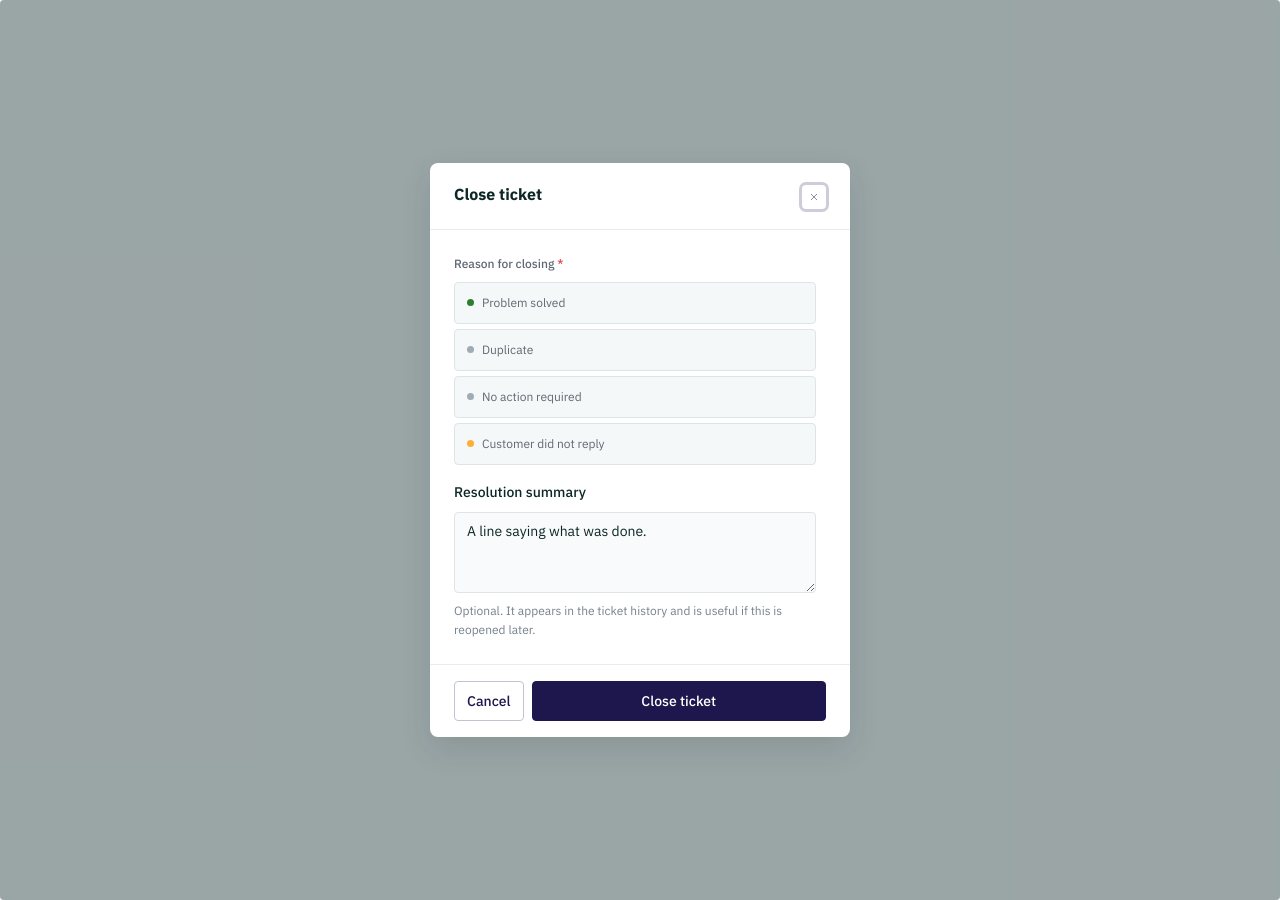
Scenario: AC-18 / AC-19 — four reasons, and one conditional field › puts «التذكرة الأصلية» in the DOM only while «مكرّرة» is chosen
Expected: the button "Close ticket" is enabled, [532,681,826,721]
Expected: the field labelled "Original ticket" is not shown
Click the button "Duplicate".
click(508, 349)  # box [454,328,816,370]
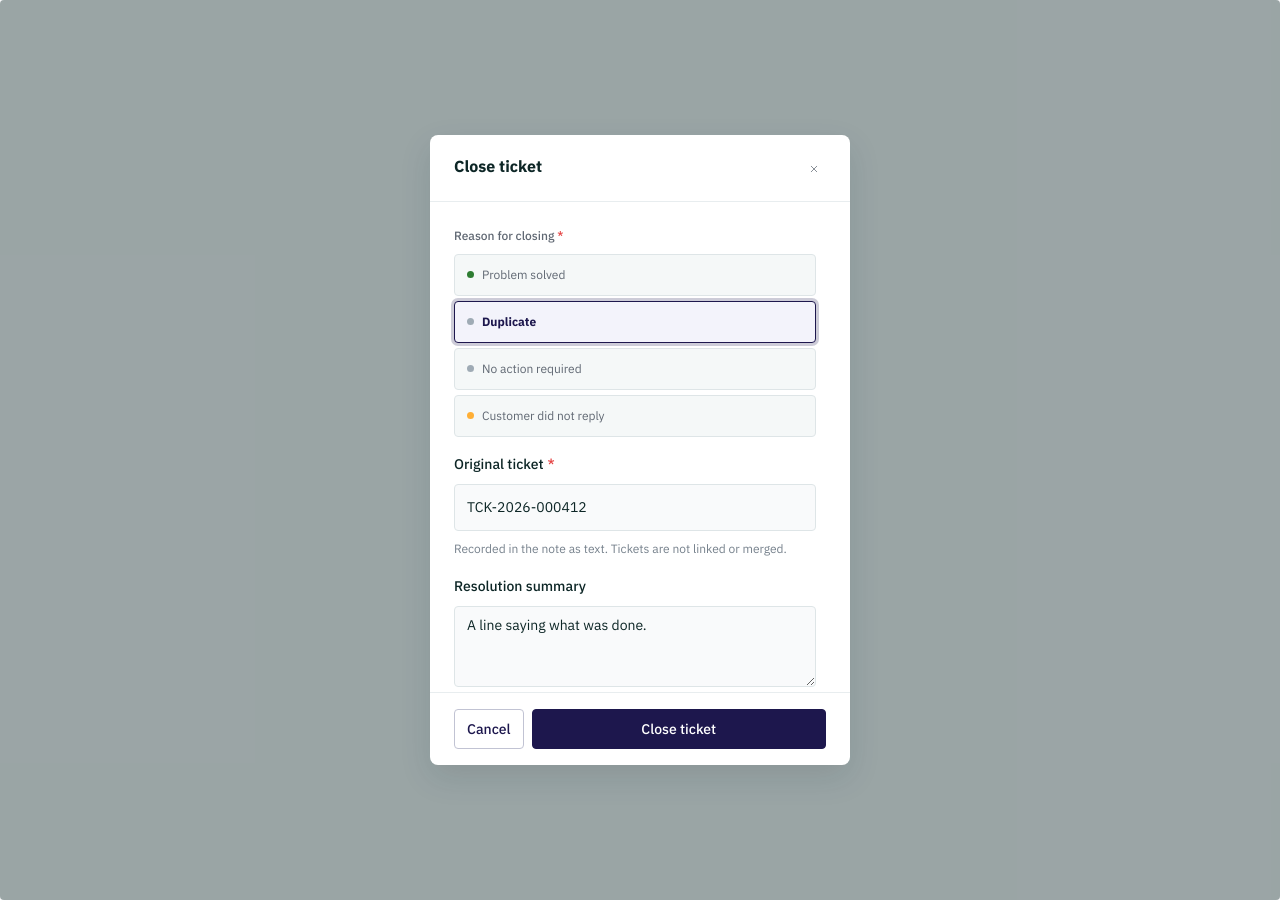
Expected: the field labelled "Original ticket" is shown, [454,484,816,531]
Click the button "No action required".
click(532, 368)  # box [454,348,816,390]
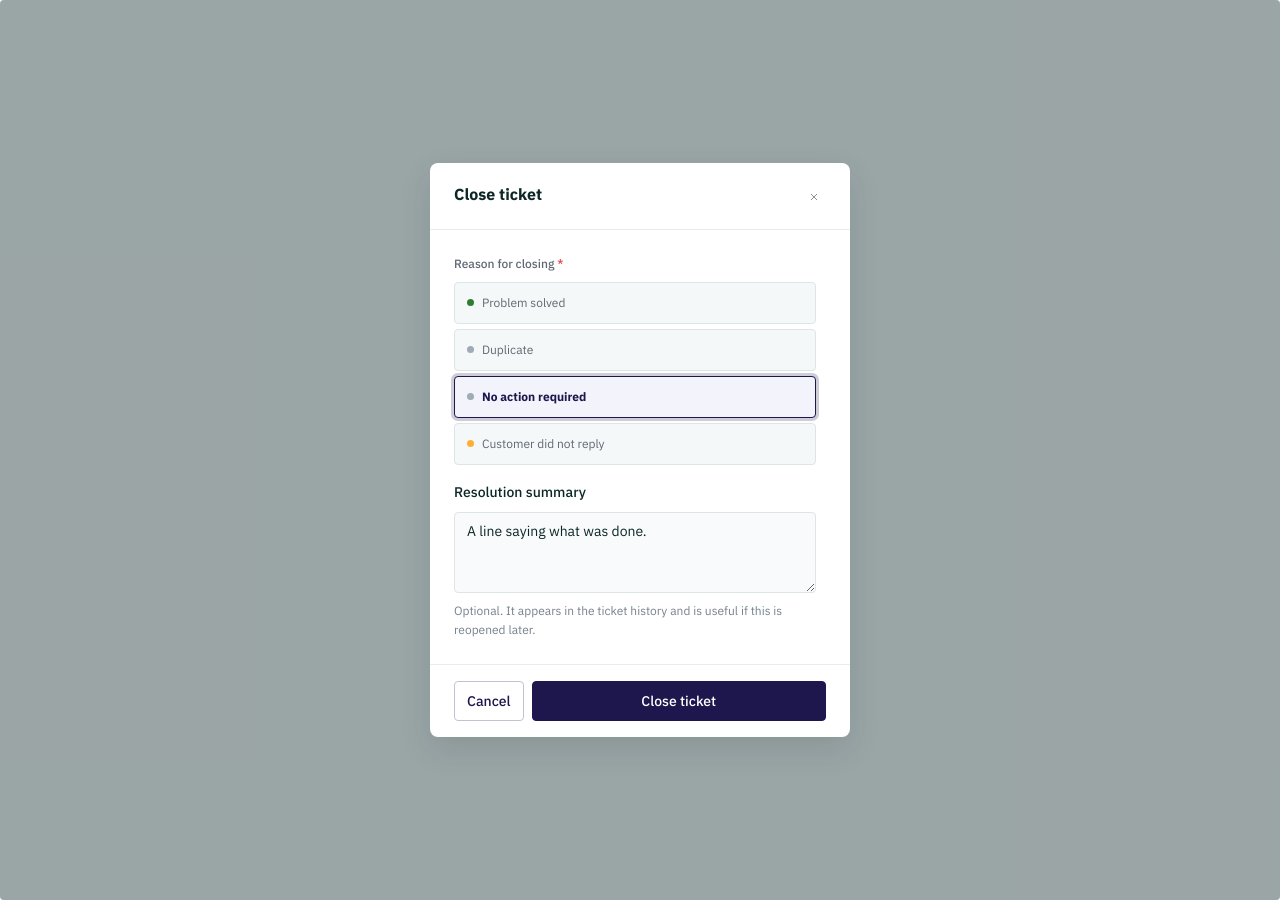
Expected: the label labelled "Original ticket" is gone
